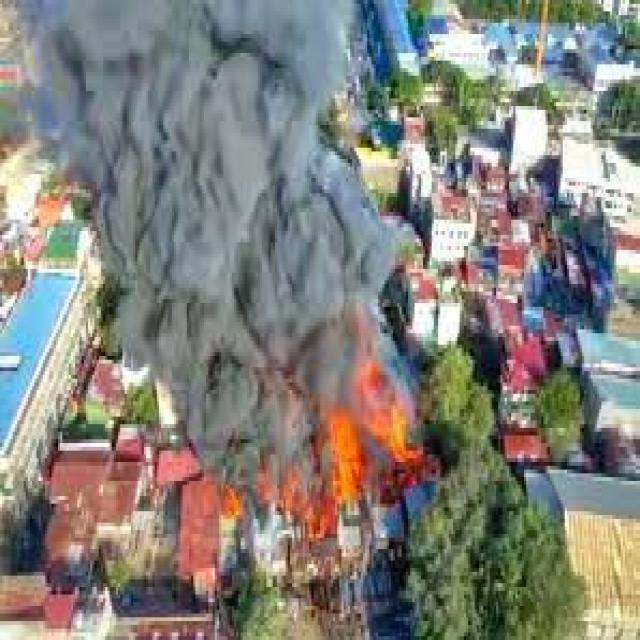Fire: (313, 393, 428, 519)
Smoke: (41, 0, 398, 406)
